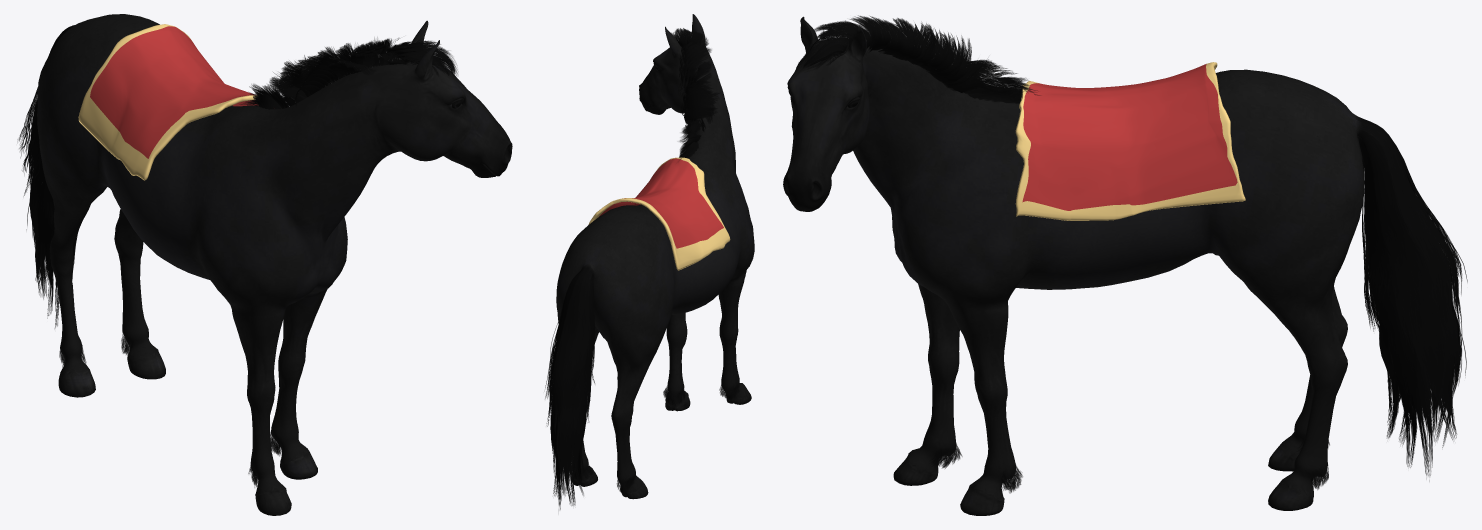
File: horse.glb
3 renders of one model, left to right at view 1: azimuth 30°, elevation 25°; view 2: azimuth 150°, elevation 25°; view 3: azimuth 270°, elevation 25°, orthographic. The views are drawn at different scales.
Parts seen in each view (by area): view 1: horse.2, saddlecloth, horse_hair.3; view 2: horse.2, horse_hair.3, saddlecloth; view 3: horse.2, horse_hair.3, saddlecloth.
Boxes of the visible parts, box(x1,y1,x2,y2) form: horse.2: box(37, 14, 512, 515); saddlecloth: box(78, 24, 258, 180); horse_hair.3: box(17, 25, 457, 487); horse.2: box(556, 14, 754, 499); horse_hair.3: box(545, 28, 739, 509); saddlecloth: box(588, 157, 730, 270); horse.2: box(783, 16, 1393, 515); horse_hair.3: box(799, 15, 1467, 493); saddlecloth: box(1015, 62, 1245, 220).
Size of the model in its own units: 1.22 by 2.25 by 2.66.
Materials: 4 (2 with a texture image).
